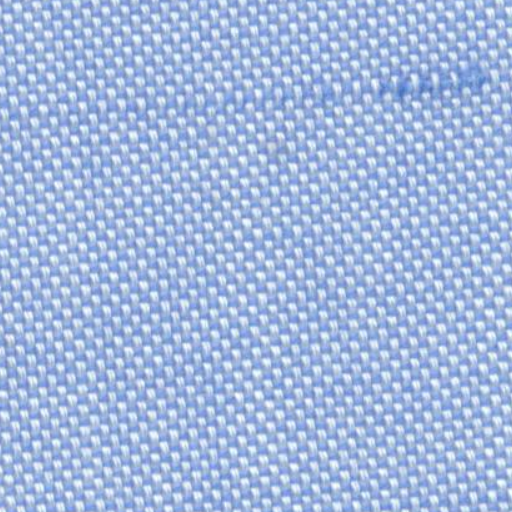DaiSha: (260, 55, 492, 110)
